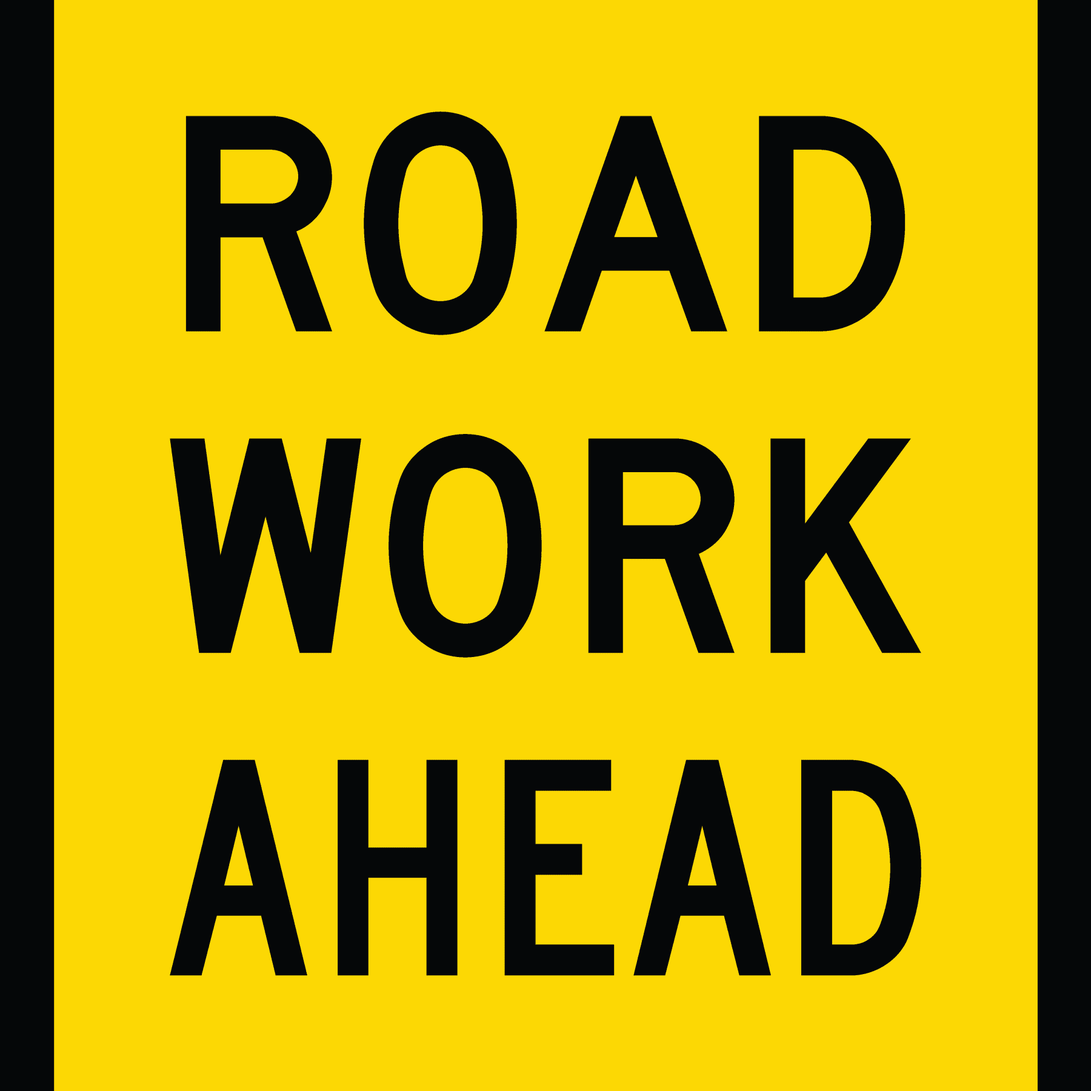Road_workahead: (8, 13, 1091, 1091)
